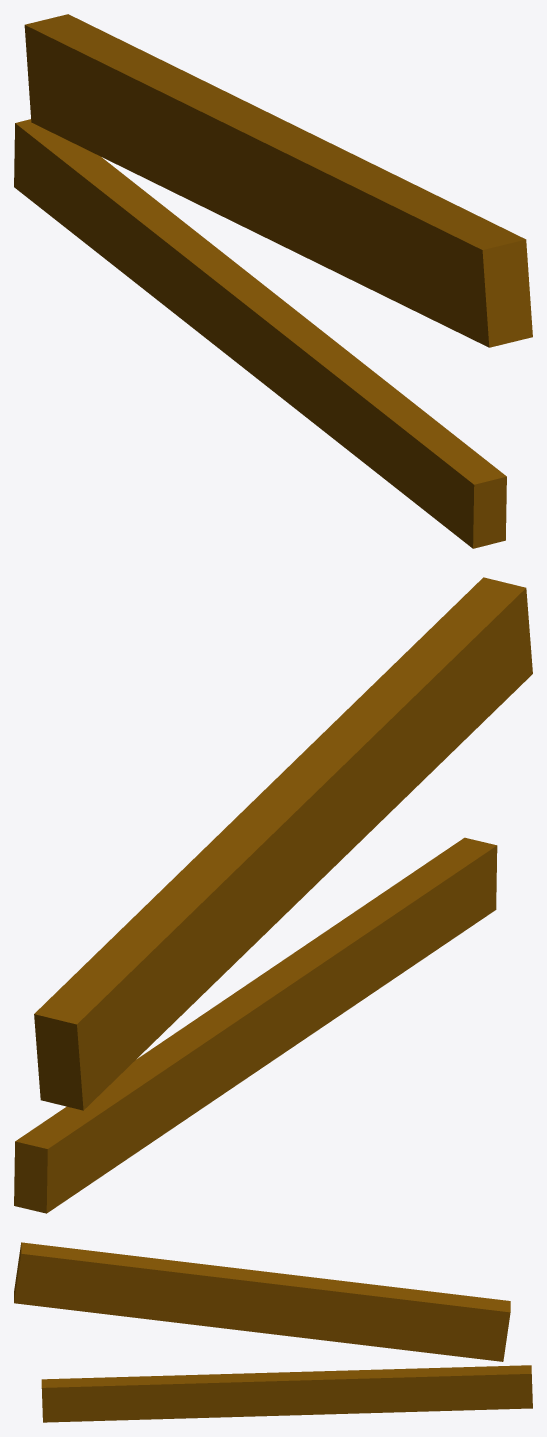
The model's file is desk.fbx.
3 views of the same model, one above another, from view 1: azimuth 30°, elevation 25°; view 2: azimuth 150°, elevation 25°; view 3: azimuth 270°, elevation 25° (orthographic). The views are drawn at different scales.
Visible parts, largest first — view 1: desk; view 2: desk; view 3: desk.
Part boxes in pixels (left/top/right/bottom): desk: left=14, top=14, right=532, bottom=548; desk: left=14, top=577, right=532, bottom=1213; desk: left=14, top=1242, right=532, bottom=1422.
Bounding box in the file's own units: 27.25 × 188 × 525.
